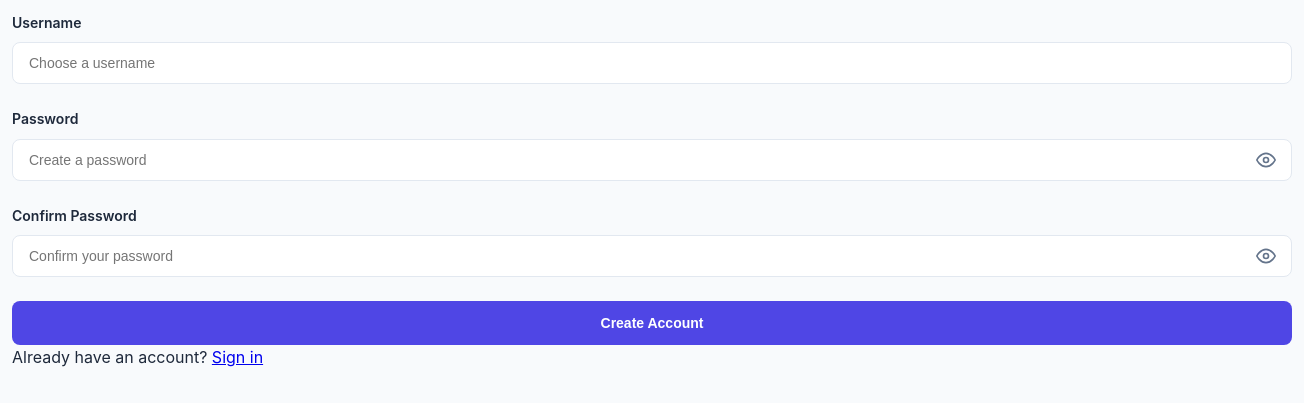
Scenario: RegisterForm › Form submission › should show error message when registration fails
The image size is (1304, 403).
In the field labelled "Username": (652, 63) left=12, top=42, right=1292, bottom=84, type "existinguser"
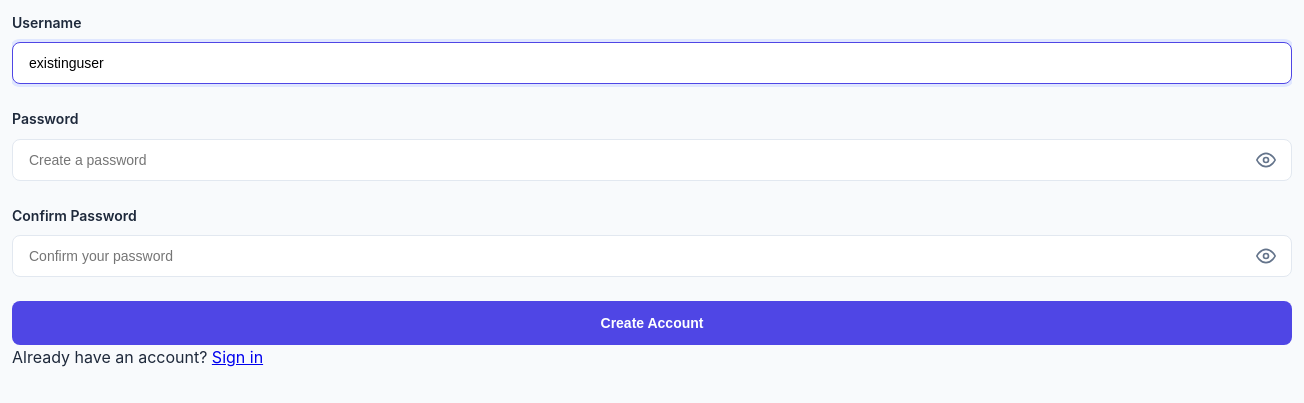
In the password field labelled "Password": (652, 160) left=12, top=139, right=1292, bottom=181, type "password123"
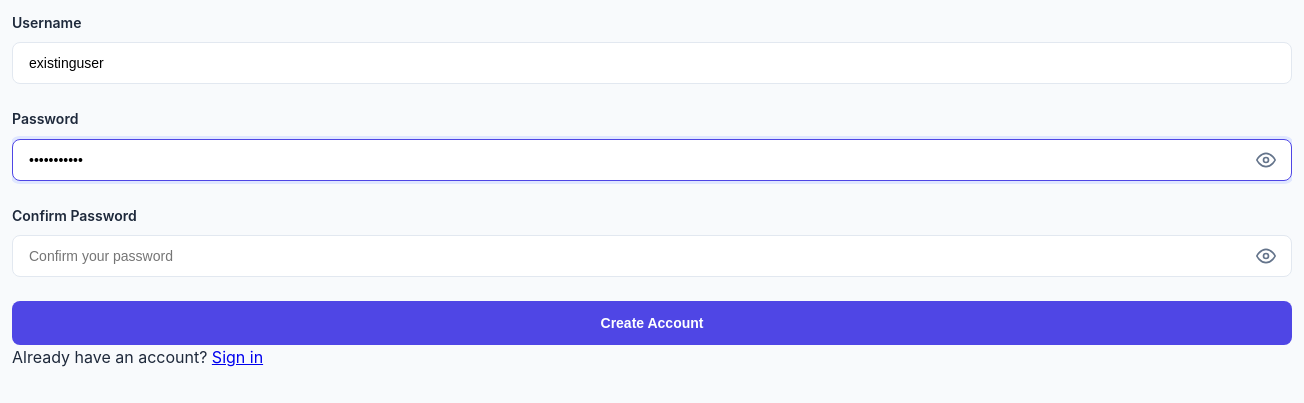
In the password field labelled "Confirm Password": (652, 256) left=12, top=235, right=1292, bottom=277, type "password123"
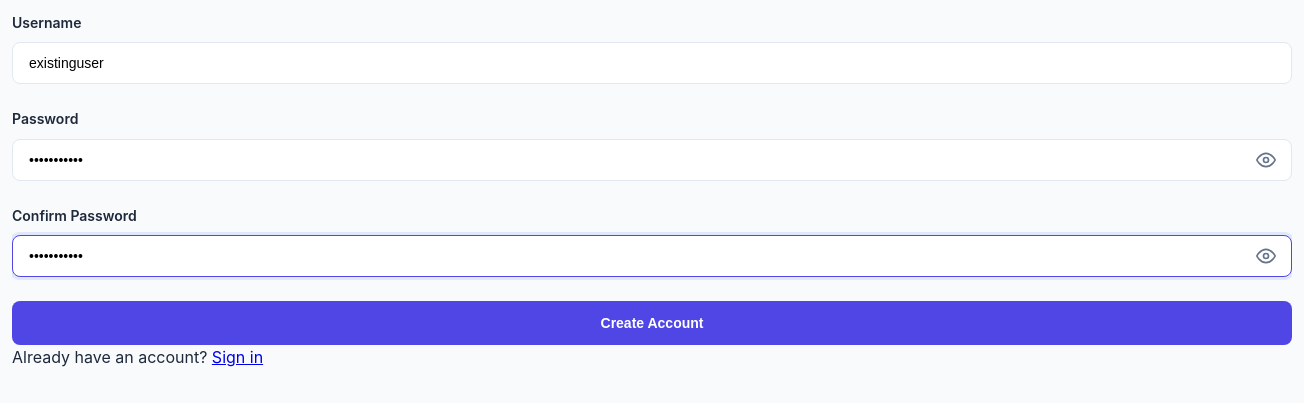
Click the button "Create Account": (652, 323) left=12, top=301, right=1292, bottom=345
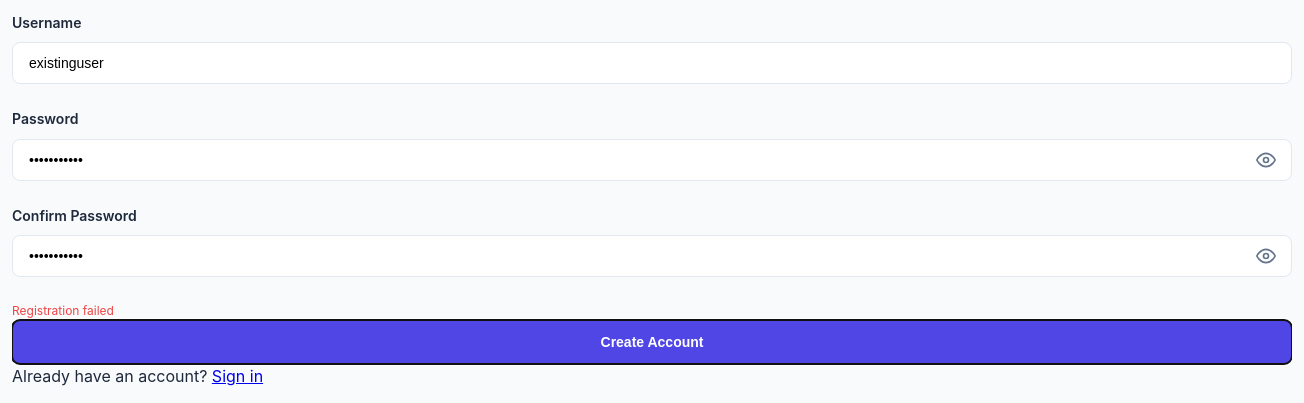
Result: the text "Registration failed" is shown at left=12, top=303, right=114, bottom=318
